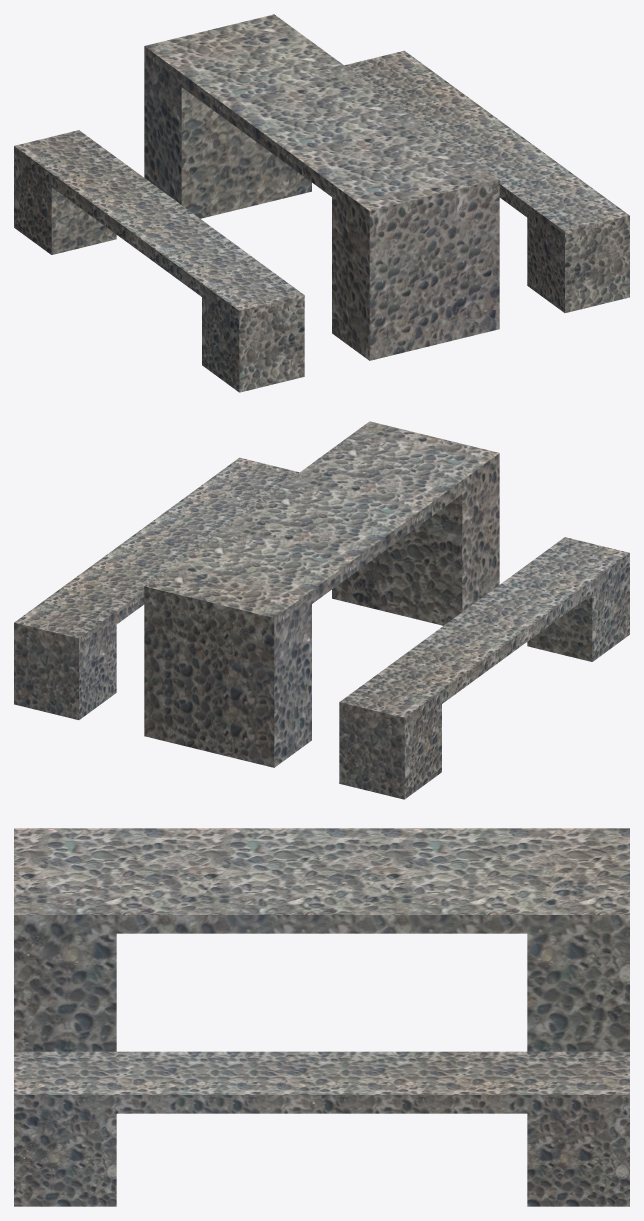
The model's file is Stone table and bench._new.obj.
The picture shows the model from 3 angles, top to bottom: view 1: azimuth 30°, elevation 25°; view 2: azimuth 150°, elevation 25°; view 3: azimuth 270°, elevation 25°; orthographic projection. The views are drawn at different scales.
Visible parts, largest first — view 1: Table, Chairs; view 2: Table, Chairs; view 3: Table, Chairs.
Part boxes in pixels (left/top/right/bottom): Table: left=144, top=14, right=499, bottom=360; Chairs: left=14, top=50, right=629, bottom=392; Table: left=144, top=421, right=499, bottom=767; Chairs: left=14, top=457, right=629, bottom=799; Table: left=14, top=828, right=629, bottom=1051; Chairs: left=14, top=1051, right=629, bottom=1206.
Size of the model in its own units: 6 by 2.2 by 6.
